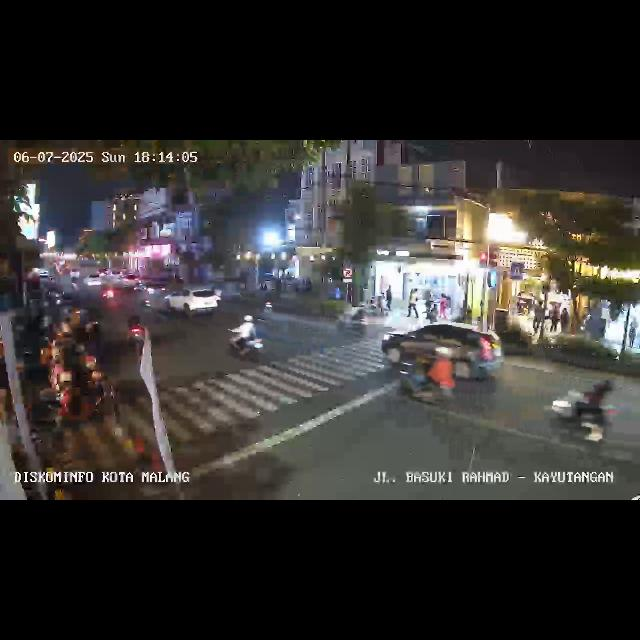car: (378, 320, 502, 390), (160, 286, 220, 320), (111, 274, 142, 292)
motorcycle: (378, 332, 457, 406), (548, 379, 620, 447), (226, 314, 268, 366), (336, 306, 368, 338), (125, 314, 146, 352), (100, 282, 116, 306)
person: (532, 302, 544, 338), (548, 302, 560, 334), (558, 304, 570, 334), (407, 286, 418, 318), (438, 293, 448, 319), (424, 295, 434, 321), (383, 287, 392, 315), (628, 322, 636, 350)
